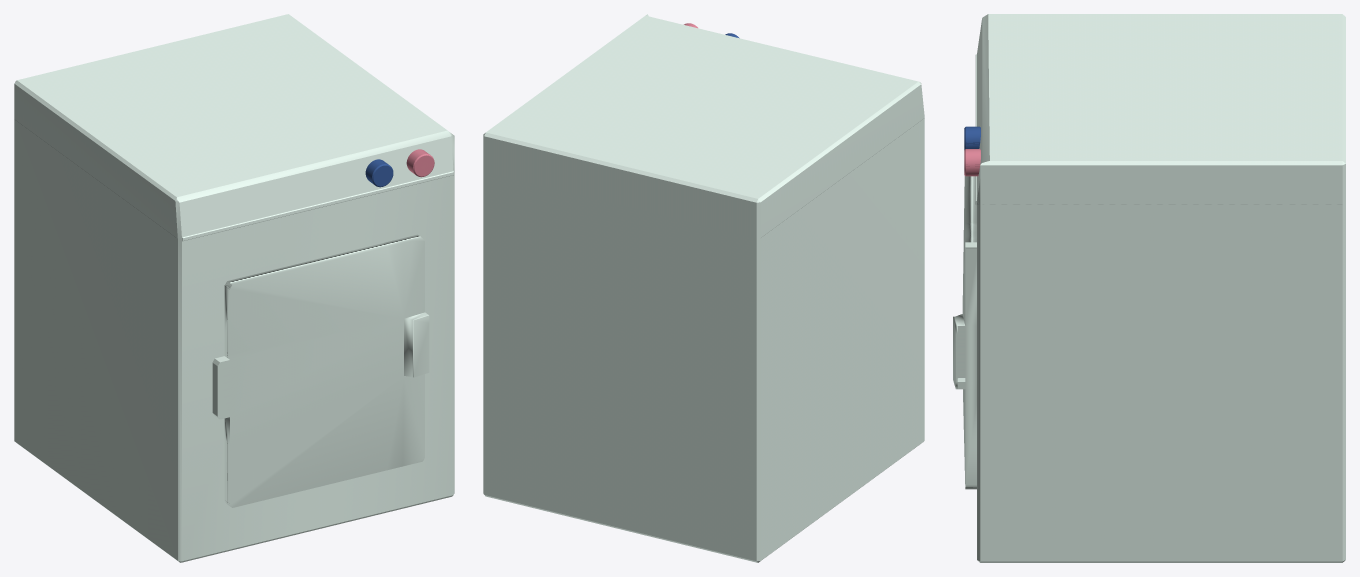
The model's file is Dryer.fbx.
3 renders of one model, left to right at view 1: azimuth 30°, elevation 25°; view 2: azimuth 150°, elevation 25°; view 3: azimuth 270°, elevation 25°, orthographic. The views are drawn at different scales.
Parts seen in each view (by area): view 1: Body, Door, Knob01, Knob02; view 2: Body; view 3: Body, Door.
Boxes of the visible parts, bbox=[...] form: Body: bbox=[14, 14, 454, 562]; Door: bbox=[212, 234, 429, 507]; Knob01: bbox=[365, 159, 393, 187]; Knob02: bbox=[406, 149, 434, 177]; Body: bbox=[483, 14, 924, 562]; Body: bbox=[975, 14, 1345, 562]; Door: bbox=[953, 176, 976, 489].
Size of the model in its own units: 67.16 by 84.16 by 74.49.
Materials: 4 (4 with a texture image).
